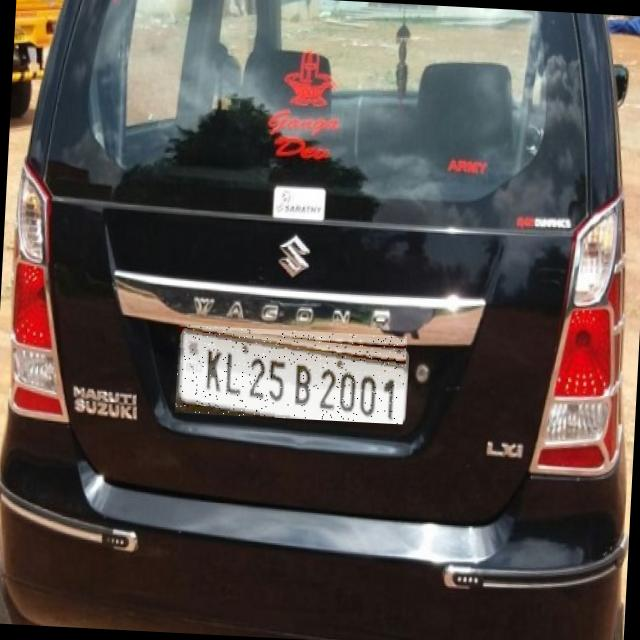Plate: (177, 326, 409, 426)
